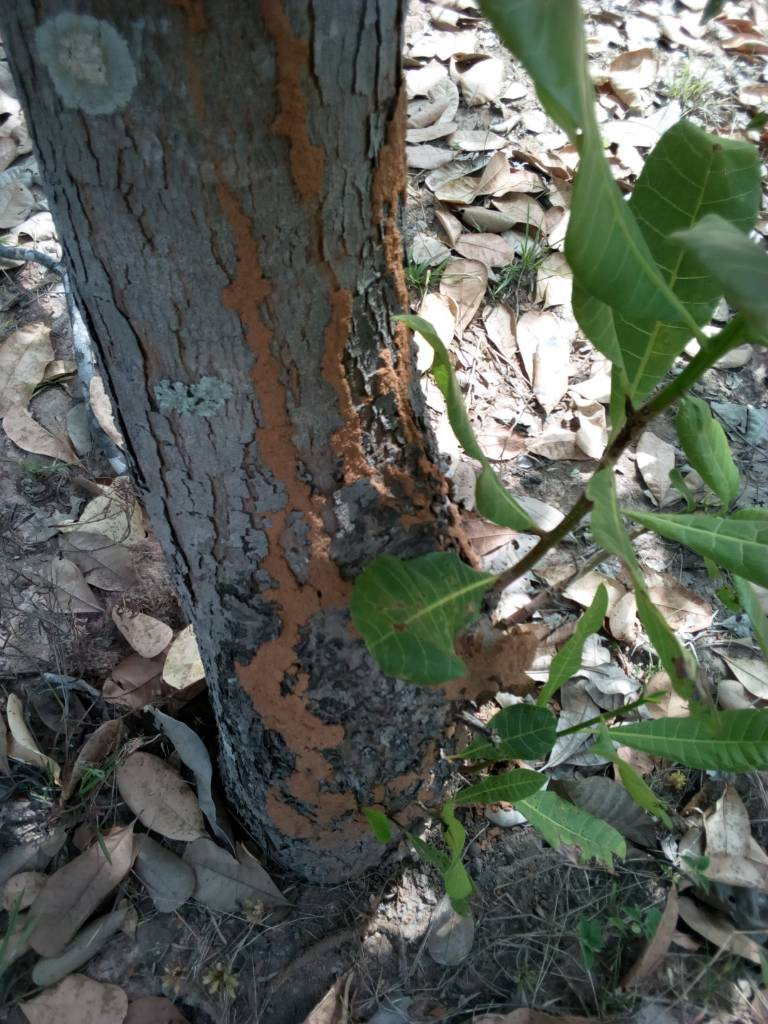Virose: (147, 153, 385, 872), (316, 96, 555, 761)
